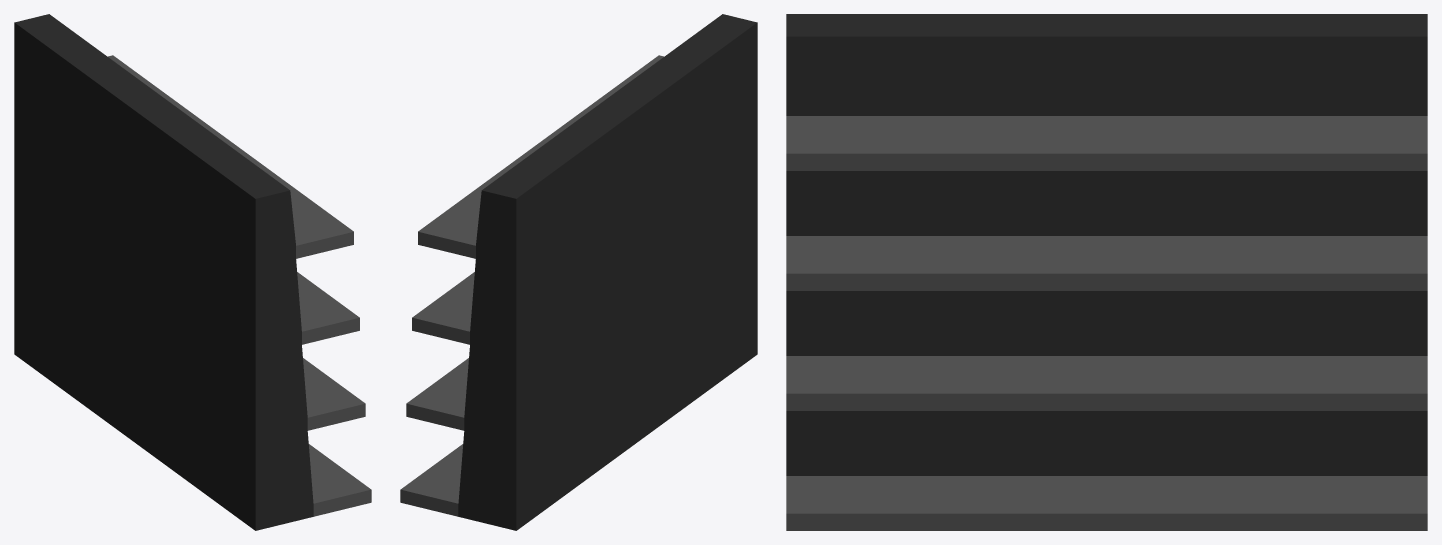
The model's file is BasicShelf.gltf.
3 renders of one model, left to right at view 1: azimuth 30°, elevation 25°; view 2: azimuth 150°, elevation 25°; view 3: azimuth 270°, elevation 25°, orthographic. The views are drawn at different scales.
Visible parts, largest first — view 1: BasicShelf -col; view 2: BasicShelf -col; view 3: BasicShelf -col.
Part boxes in pixels (box(x1,y1,x2,y2)): BasicShelf -col: box(14, 14, 371, 530); BasicShelf -col: box(400, 14, 757, 530); BasicShelf -col: box(786, 14, 1427, 530).
Bounding box in the file's own units: 0.5 × 1.37 × 1.8.
Materials: 1 (1 with a texture image).
